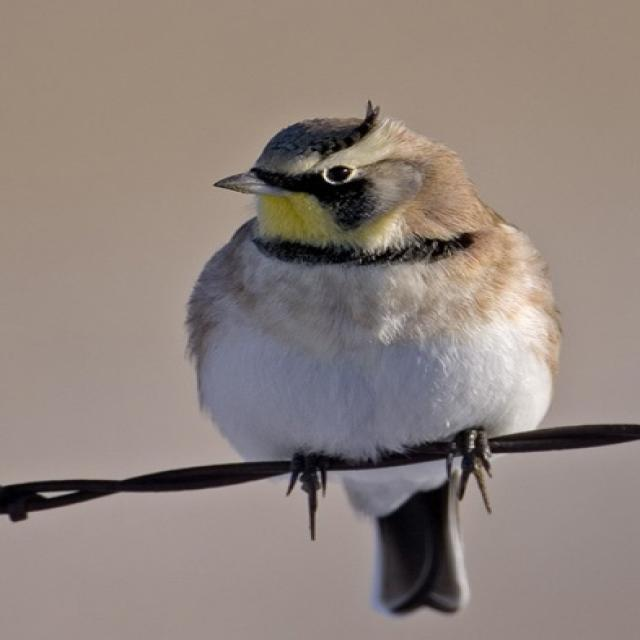bird: (186, 99, 558, 616)
